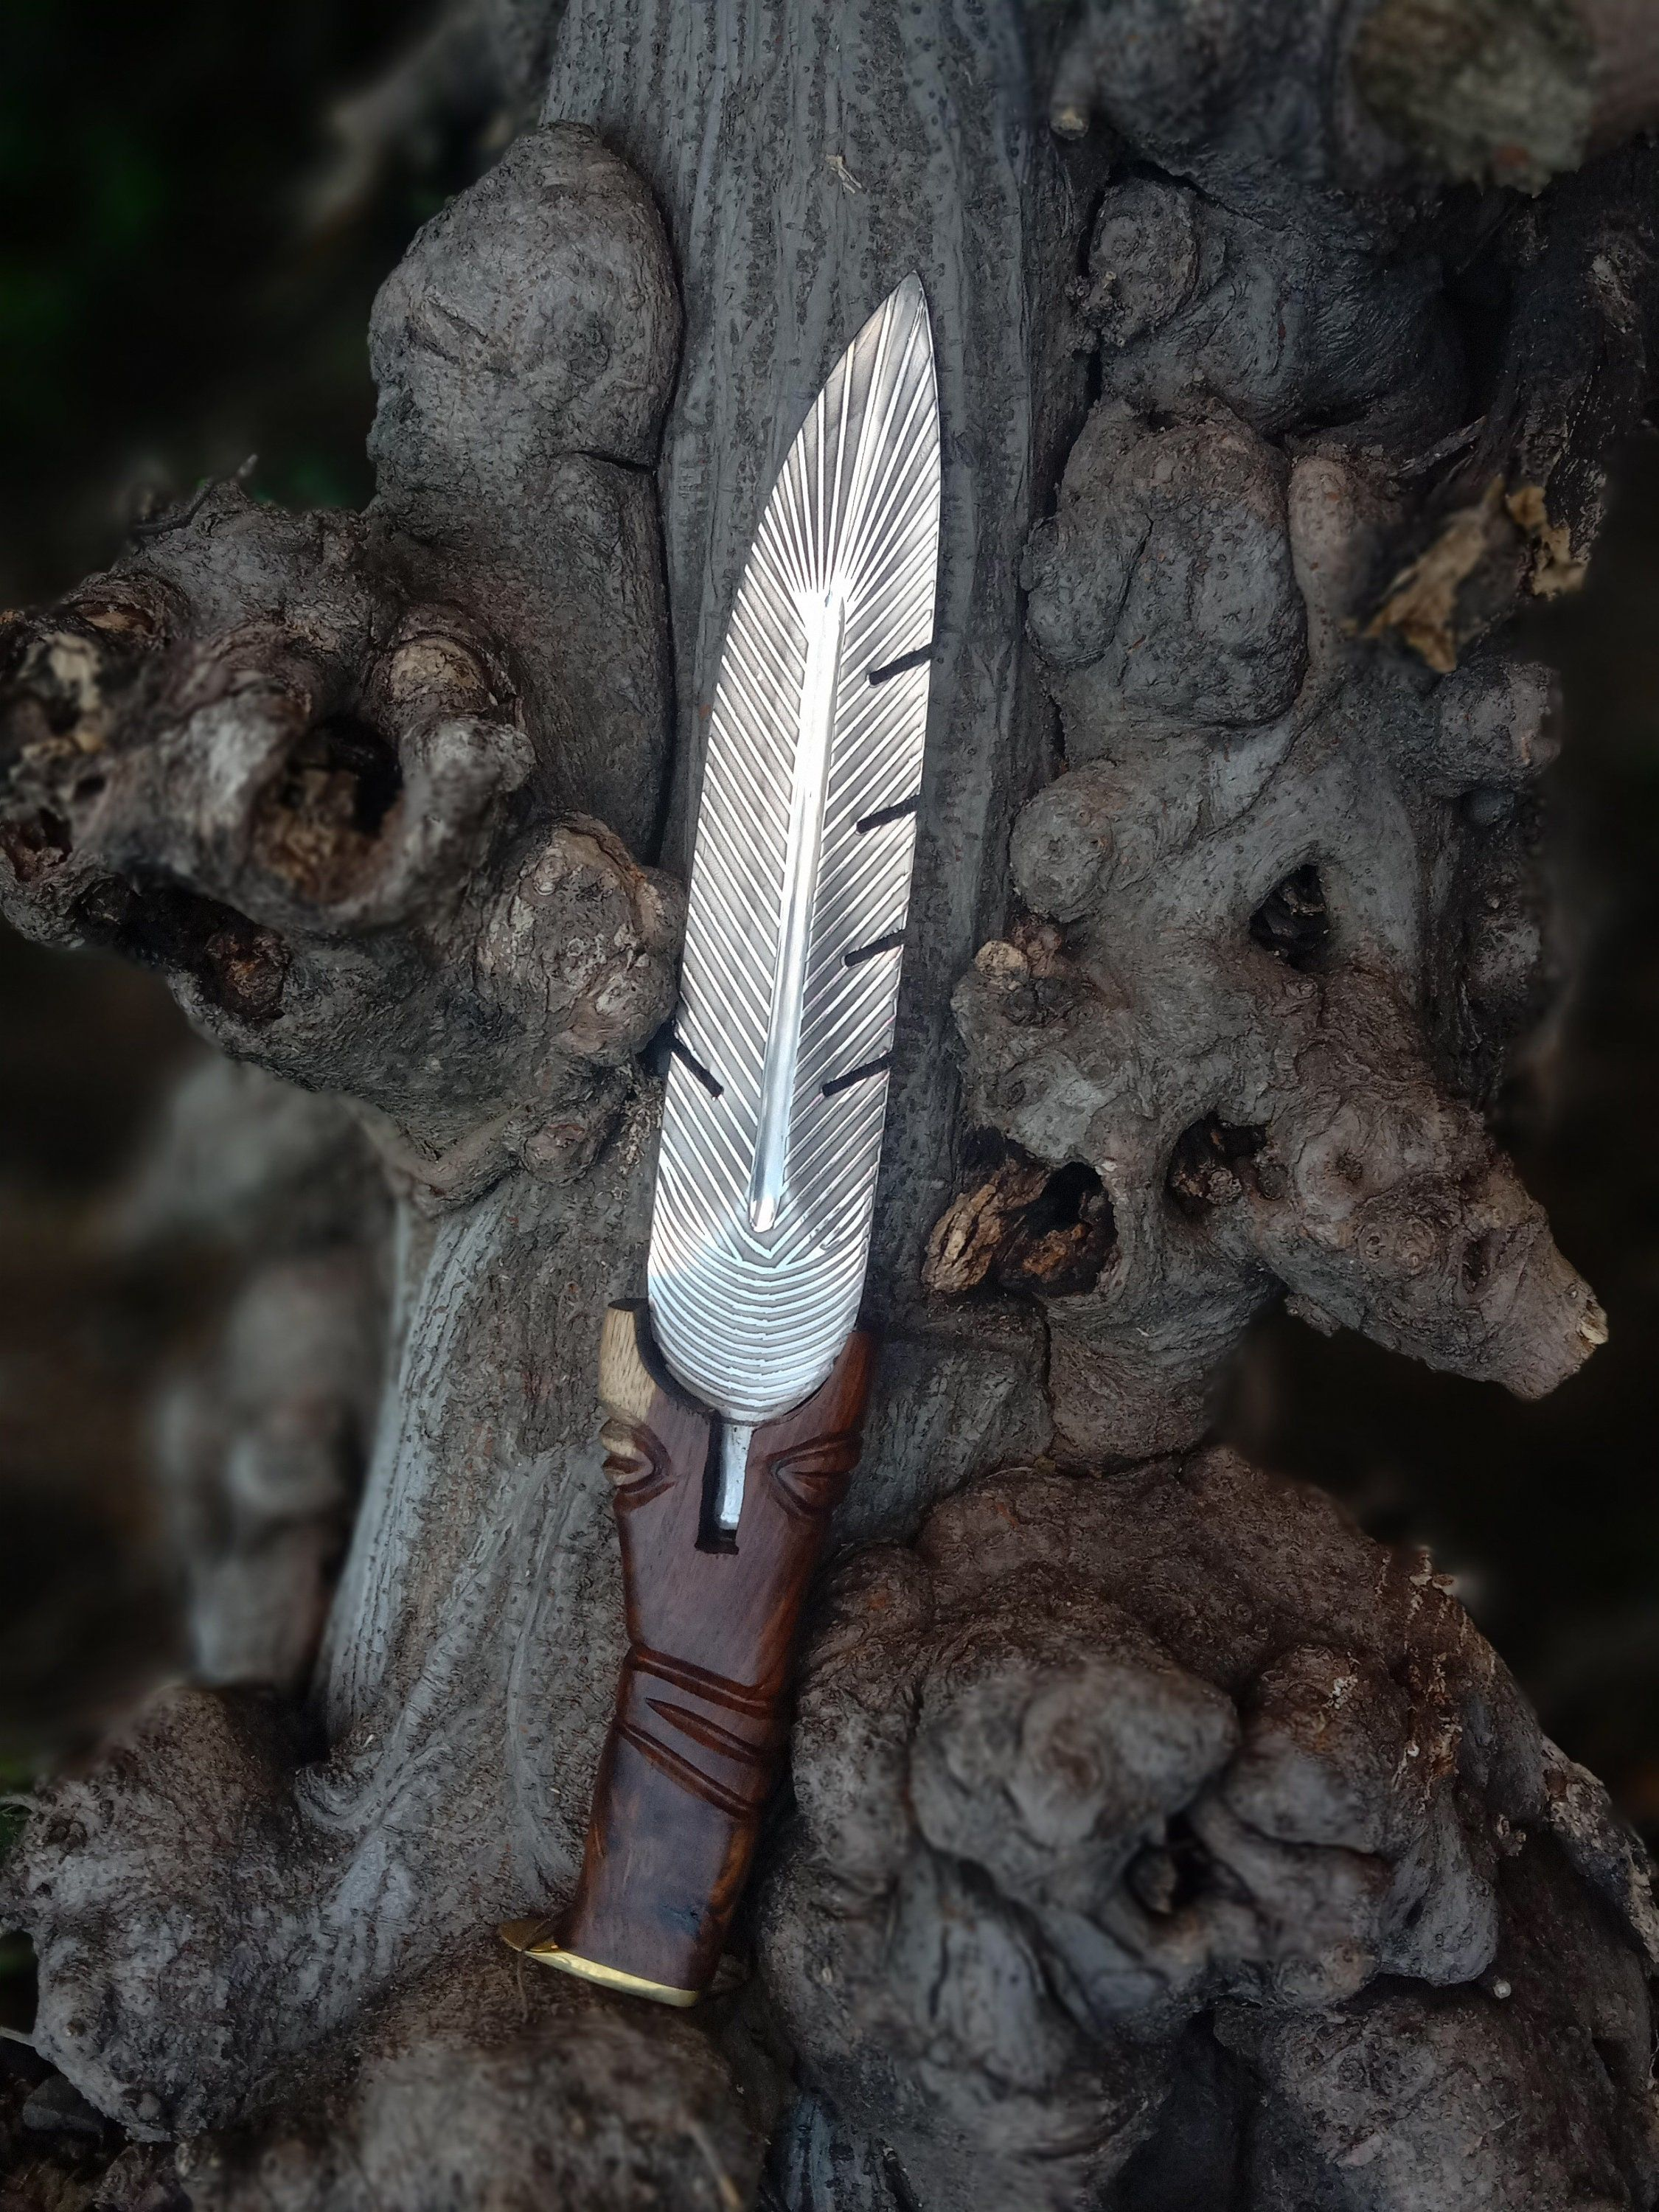knife: (474, 246, 1044, 2026)
